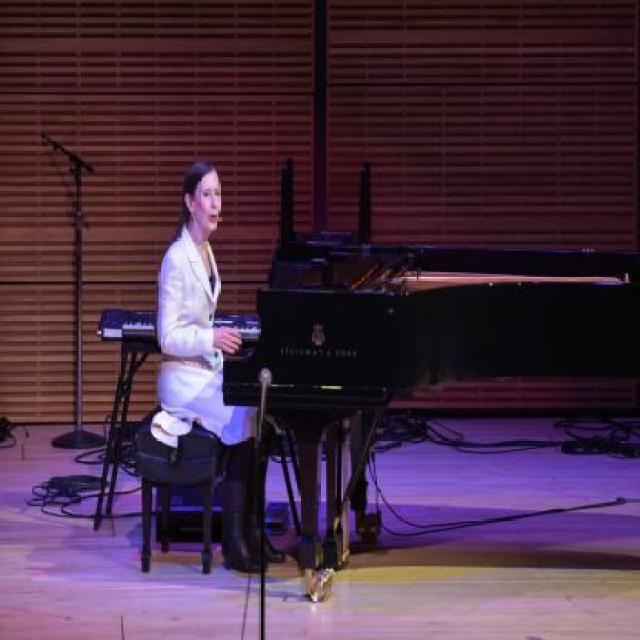obstacle: (149, 160, 285, 566)
